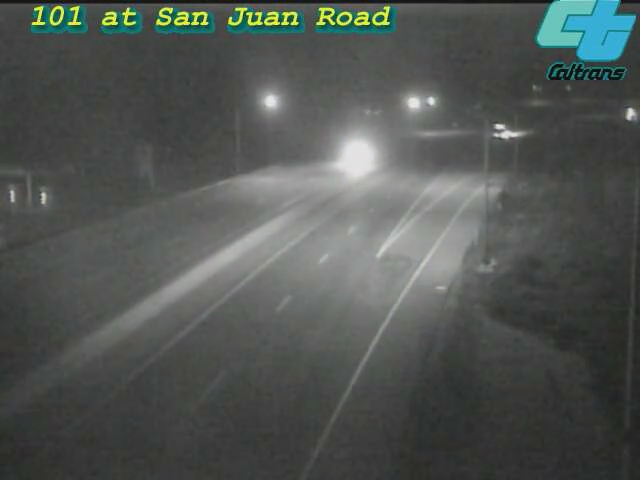vehicle: (328, 129, 378, 179), (486, 105, 536, 155)
